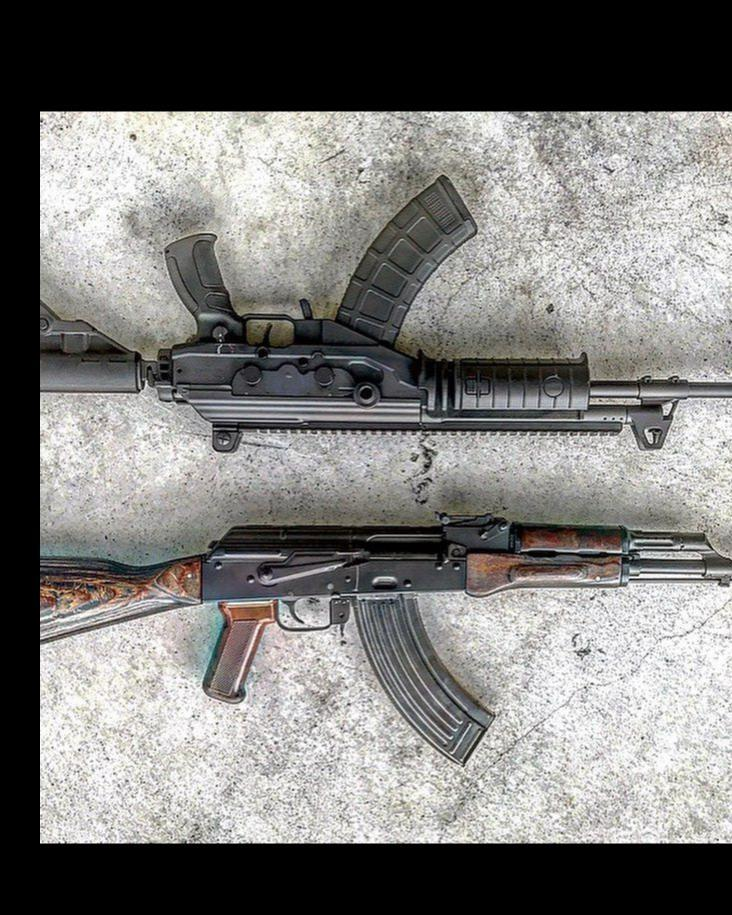larga: (41, 177, 732, 455), (39, 515, 732, 765)
